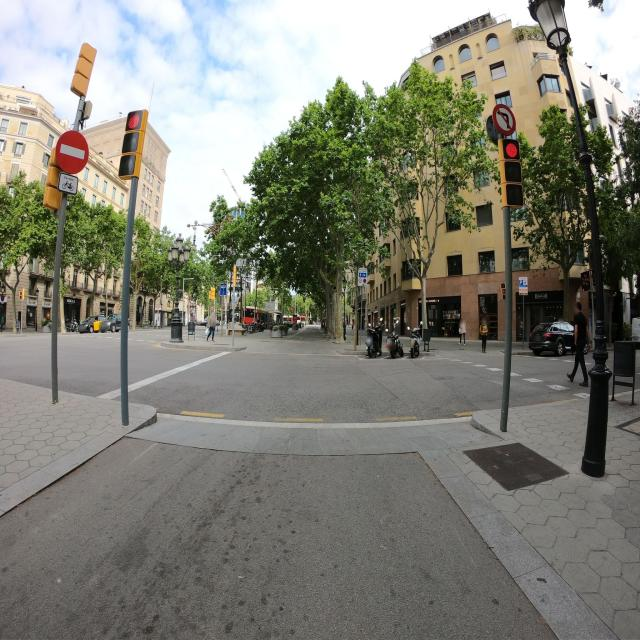car: (528, 320, 576, 356), (242, 307, 268, 332), (79, 314, 110, 334), (65, 318, 79, 332)
